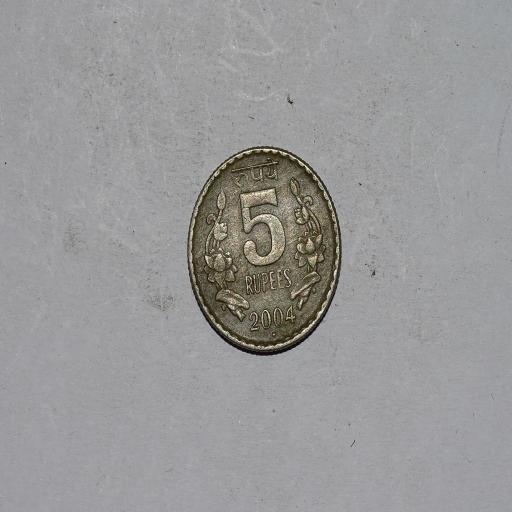rupee5: (185, 146, 342, 353)
